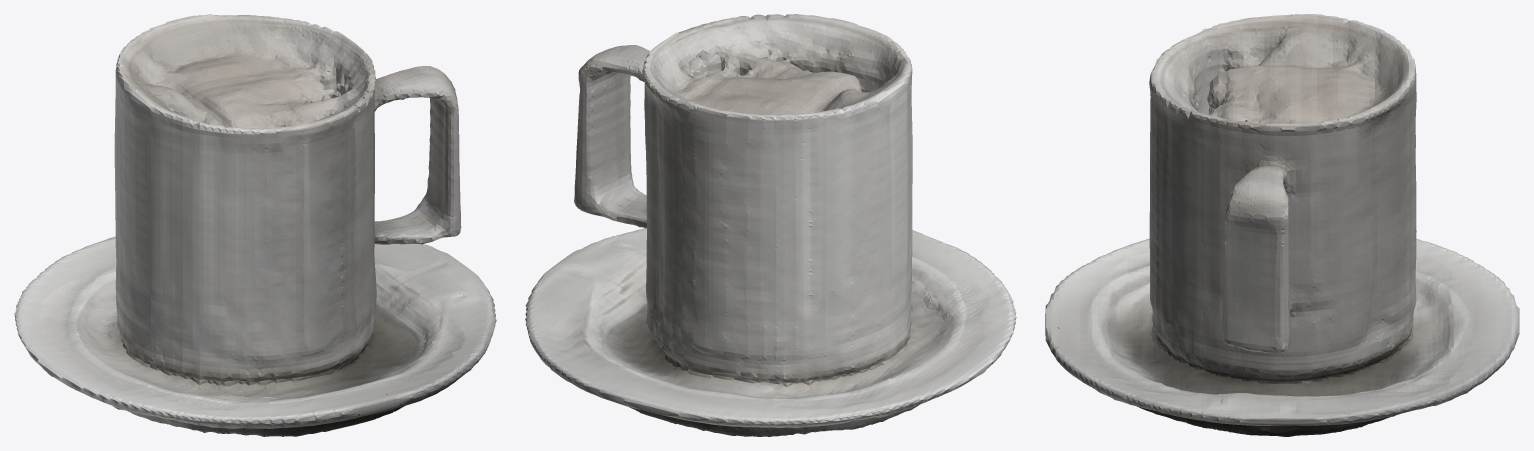
Rendered from mug.glb.
The picture shows the model from 3 angles, left to right: view 1: azimuth 30°, elevation 25°; view 2: azimuth 150°, elevation 25°; view 3: azimuth 270°, elevation 25°; orthographic projection. The views are drawn at different scales.
Parts seen in each view (by area): view 1: input.obj; view 2: input.obj; view 3: input.obj.
Boxes of the visible parts, x1,y1,x2,y2 form: input.obj: [14, 14, 496, 436]; input.obj: [525, 14, 1016, 436]; input.obj: [1045, 14, 1519, 436].
Size of the model in its own units: 1.44 by 1 by 1.44.
Materials: 1 (1 with a texture image).
